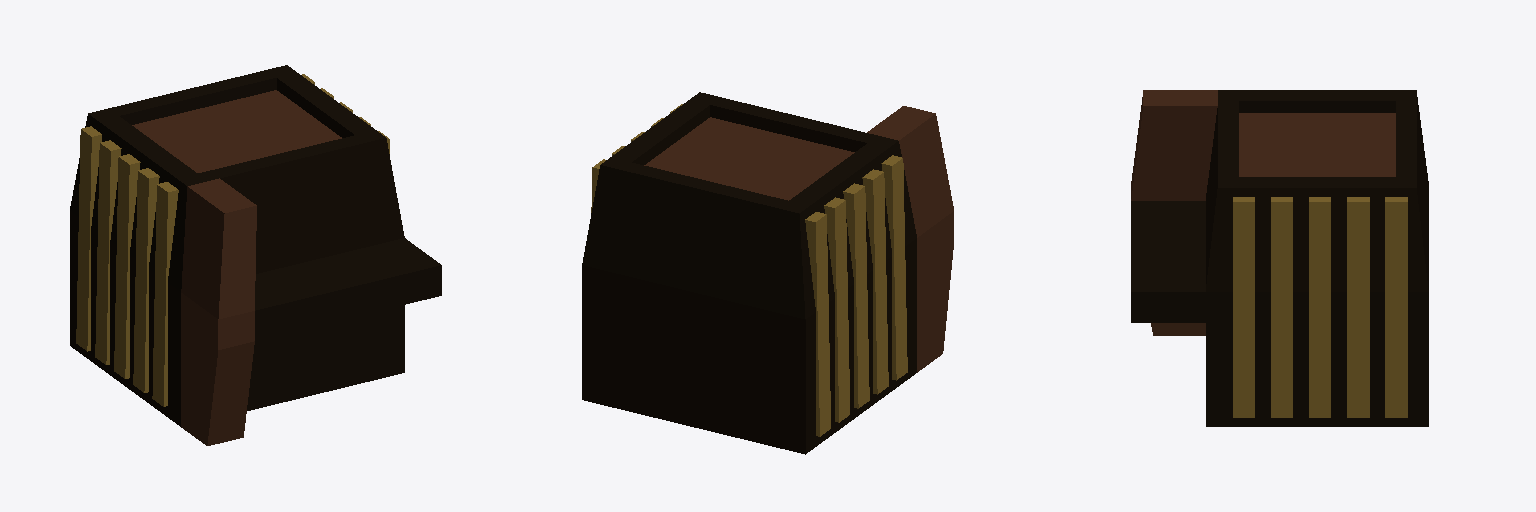
File: dessert_house1A(F110).obj
The picture shows the model from 3 angles: view 1: azimuth 30°, elevation 25°; view 2: azimuth 150°, elevation 25°; view 3: azimuth 270°, elevation 25°; orthographic projection.
Parts seen in each view (by area): view 1: Cube.013, Cube.018, Cube.020, Cube.026, Cube.019, Cube.017; view 2: Cube.013, Cube.018, Cube.020, Cube.026, Cube.017, Cube.019; view 3: Cube.013, Cube.022, Cube.023, Cube.014, Cube.015, Cube.016.
Boxes of the visible parts, <box> form: Cube.013: <box>70,65,441,445</box>; Cube.018: <box>114,154,140,378</box>; Cube.020: <box>133,168,159,392</box>; Cube.026: <box>152,182,178,406</box>; Cube.019: <box>76,126,101,351</box>; Cube.017: <box>95,140,121,364</box>; Cube.013: <box>582,92,953,454</box>; Cube.018: <box>843,183,869,408</box>; Cube.020: <box>862,169,888,394</box>; Cube.026: <box>881,155,907,380</box>; Cube.017: <box>824,197,849,422</box>; Cube.019: <box>805,212,830,436</box>; Cube.013: <box>1131,90,1428,426</box>; Cube.022: <box>1347,197,1369,417</box>; Cube.023: <box>1385,197,1407,417</box>; Cube.014: <box>1271,197,1292,417</box>; Cube.015: <box>1309,197,1330,417</box>; Cube.016: <box>1233,197,1254,417</box>.
Bounding box in the file's own units: 2.16 × 2.07 × 2.39.